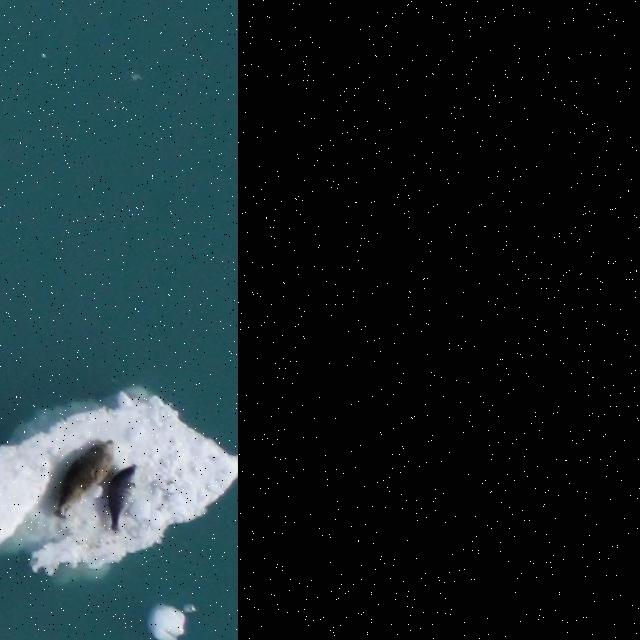seal: (34, 431, 129, 526), (95, 459, 136, 532)
